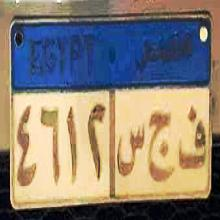1: (64, 104, 80, 188)
2: (84, 94, 107, 184)
4: (16, 98, 38, 194)
6: (38, 102, 62, 191)
faa: (176, 104, 207, 180)
jeem: (148, 100, 178, 190)
seen: (115, 119, 146, 187)
